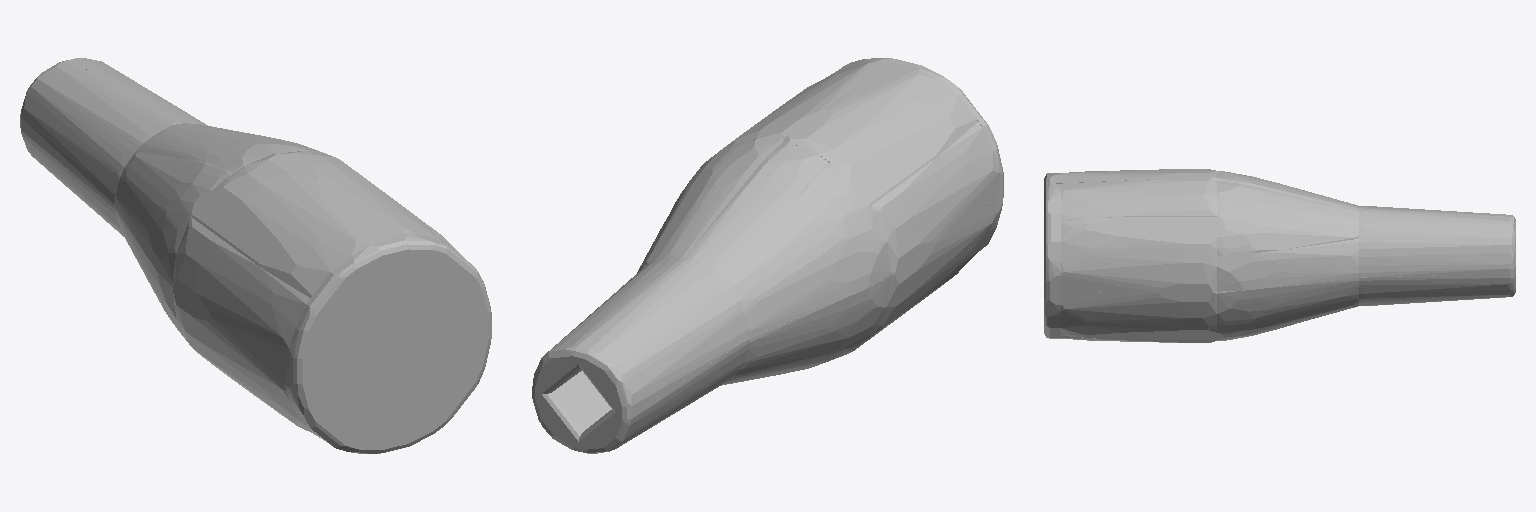
URDF robot description (root):
<?xml version="1.0"?>
<robot name="root">
  <link name="base_link">
    <visual>
      <origin xyz="0 0 0" rpy="0 0 0" />
      <geometry>
        <mesh filename="../meshes/unidex_core_bottle-92472817f72dd619467ca2ad6571afff_008.obj" scale="1.0000E+00 1.0000E+00 1.0000E+00" />
      </geometry>
      <material name="">
        <color rgba="7.50E-01 7.50E-01 7.50E-01 1" />
      </material>
    </visual>
    <collision>
      <origin xyz="0 0 0" rpy="0 0 0" />
      <geometry>
        <mesh filename="../meshes/unidex_core_bottle-92472817f72dd619467ca2ad6571afff_008.obj" scale="1.0000E+00 1.0000E+00 1.0000E+00" />
      </geometry>
    </collision>
  </link>
</robot>

--- Facts derived from the render (not from the file) ---
The picture shows the robot from 3 angles, left to right: view 1: azimuth 30°, elevation 25°; view 2: azimuth 150°, elevation 25°; view 3: azimuth 270°, elevation 25°; orthographic projection.
Robot: root — 1 links, 0 joints (none); root link base_link; default pose: all joints at 0.
Visible links, largest first — view 1: base_link; view 2: base_link; view 3: base_link.
Link boxes in pixels (left/top/right/bottom): base_link: left=20, top=58, right=491, bottom=453; base_link: left=532, top=58, right=1003, bottom=453; base_link: left=1044, top=169, right=1515, bottom=342.
Size in the robot's own frame: 0.0552 by 0.1493 by 0.0552 metres.
1 mesh visuals loaded from 1 distinct referenced files (1 OBJ).
